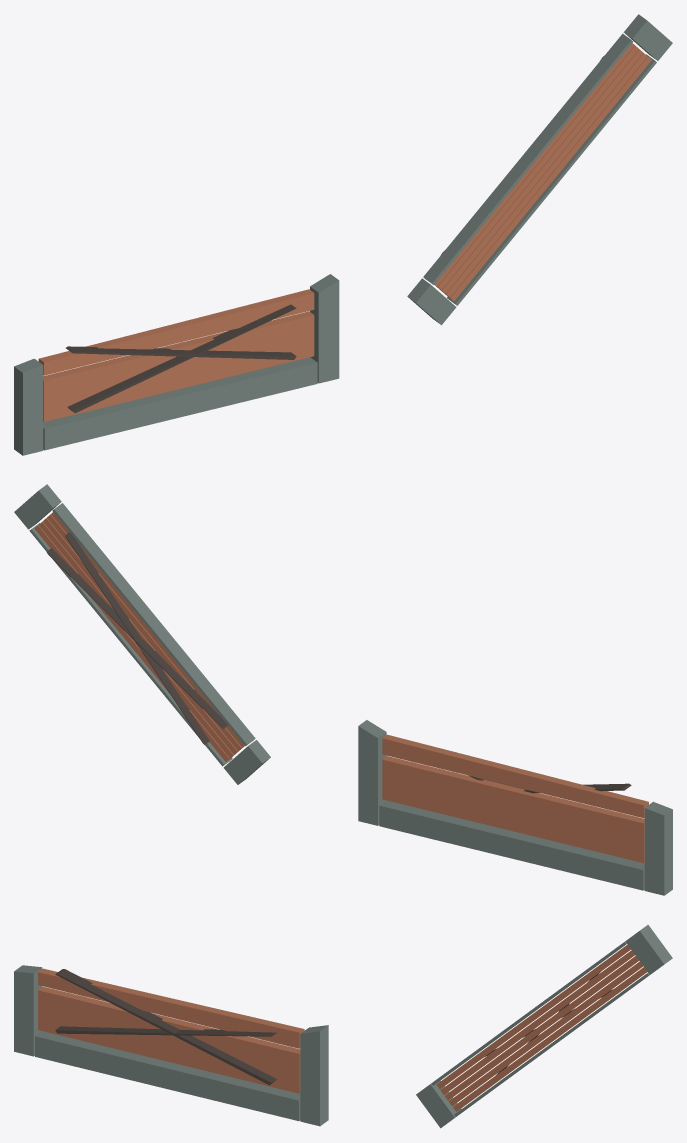
The model's file is SM_PuertaVia_v2_Tablones_e2_MuyDanado_LOD1.fbx.
The picture shows the model from 3 angles, top to bottom: view 1: azimuth 30°, elevation 25°; view 2: azimuth 150°, elevation 25°; view 3: azimuth 330°, elevation 25°; orthographic projection. The views are drawn at different scales.
Visible parts, largest first — view 1: Hoja_O, Hoja_E; view 2: Hoja_O, Hoja_E; view 3: Hoja_O, Hoja_E.
Boxes of the visible parts, box(x1,y1,x2,y2) form: Hoja_O: box(14, 274, 339, 455); Hoja_E: box(407, 14, 672, 325); Hoja_O: box(358, 720, 672, 895); Hoja_E: box(14, 484, 270, 784); Hoja_O: box(14, 965, 328, 1126); Hoja_E: box(416, 925, 672, 1128).
Size of what is drawn, in the model's own units: 5.18 by 2.04 by 0.37.
